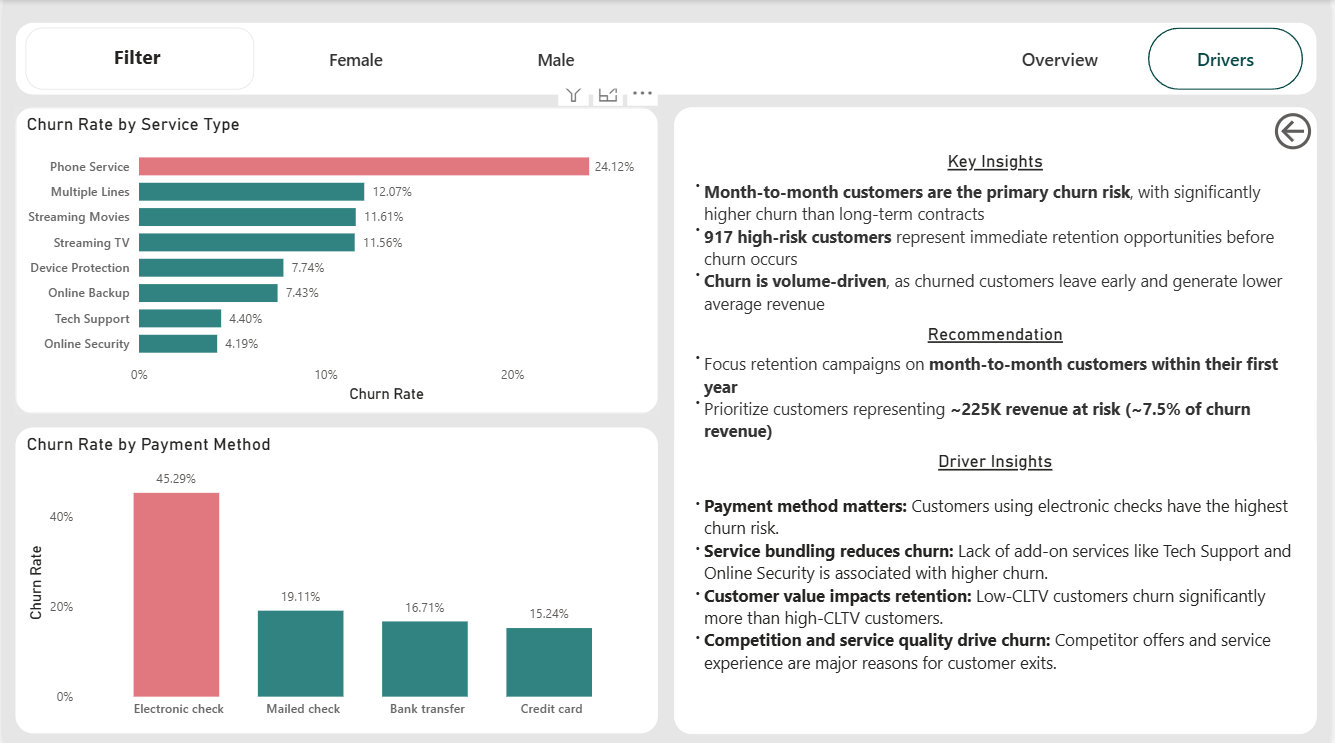

The page's visual inventory and layout, read from the dashboard file:
{"tool":"powerbi","page":{"name":"Churn Drivers","canvas":[1280,720],"ordinal":1},"visuals":[{"type":"shape","box":[12.1,21.7,1255.9,70],"z":0},{"type":"actionButton","box":[944.6,26.5,150.8,60.3],"z":1000},{"type":"actionButton","box":[1105.1,26.5,149.6,60.3],"z":2000},{"type":"columnChart","title":"Churn Rate by Customer Value (CLTV)","fields":{"Category":["telco churn.CLTV_score_Bucket"],"Y":["Measure.Churn Rate"]},"box":[647.9,412.6,620.1,295.6],"z":3000},{"type":"barChart","title":"Churn Reasons (Churn Customer Count)","fields":{"Category":["telco churn.churn_reason"],"Y":["Measure.Churned Customers"]},"box":[647.9,103.8,620.1,295.6],"z":4000},{"type":"columnChart","title":"Churn Rate by Payment Method","fields":{"Category":["telco churn.payment_method"],"Y":["Measure.Churn Rate"]},"box":[12.1,412.6,620.1,295.6],"z":5000},{"type":"barChart","title":"Churn Rate by Service Type","fields":{"Category":["Churned Customers by Service.Service Type"],"Y":["Sum(Churned Customers by Service.Churn Rate)"]},"box":[12.1,103.8,620.1,295.6],"z":6000},{"type":"advancedSlicerVisual","fields":{"Values":["telco churn.gender"]},"box":[242.5,21.7,389.7,70],"z":7000},{"type":"textbox","box":[21.7,26.5,220.8,60.3],"z":8000},{"type":"actionButton","box":[1219.7,103.8,48.3,47.1],"z":11000}]}

Visuals, with their boxes in screenshot pixels (x1, y1, x2, y2), scaled from the page's 1280x720 canvas onto the 1335x743 screenshot:
shape: {"x1": 13, "y1": 22, "x2": 1322, "y2": 95}
actionButton: {"x1": 985, "y1": 27, "x2": 1142, "y2": 90}
actionButton: {"x1": 1153, "y1": 27, "x2": 1309, "y2": 90}
"Churn Rate by Customer Value (CLTV)" columnChart: {"x1": 676, "y1": 426, "x2": 1322, "y2": 731}
"Churn Reasons (Churn Customer Count)" barChart: {"x1": 676, "y1": 107, "x2": 1322, "y2": 412}
"Churn Rate by Payment Method" columnChart: {"x1": 13, "y1": 426, "x2": 659, "y2": 731}
"Churn Rate by Service Type" barChart: {"x1": 13, "y1": 107, "x2": 659, "y2": 412}
advancedSlicerVisual - telco churn.gender: {"x1": 253, "y1": 22, "x2": 659, "y2": 95}
textbox: {"x1": 23, "y1": 27, "x2": 253, "y2": 90}
actionButton: {"x1": 1272, "y1": 107, "x2": 1322, "y2": 156}
